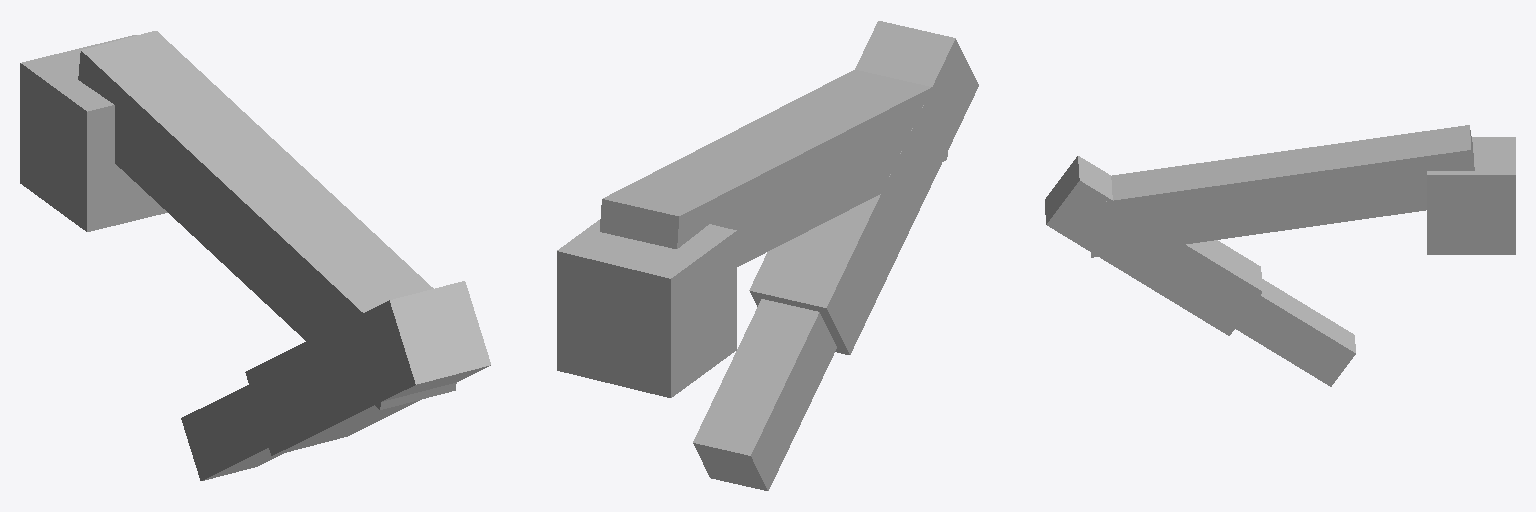
The robot description file, URDF, robot "uorover_ik_urdf":
<?xml version="1.0" encoding="utf-8"?>
<robot name="uorover_ik_urdf">

  <link name="base_footprint">
    <visual>
      <origin xyz="0 0 0" rpy="0 0 0" />
      <geometry>
        <box size="0.001 0.001 0.001" />
      </geometry>
    </visual>
  </link>

  <joint name="base_footprint_joint" type="fixed">
    <origin xyz="0 0 0.001" rpy="0 0 0" />
    <parent link="base_footprint"/>
    <child link="L2" />
  </joint>

  <link name="L2">
    <inertial>
      <origin xyz="0.0 0 0.0957" rpy="0 0 0" />
      <mass value="1.1861" />
      <inertia ixx="0.0014" ixy="0.0" ixz="0.0" iyy="0.0015" iyz="0.0" izz="0.0019" />
    </inertial>
    <visual>
      <origin xyz="0 0 0.06" rpy="0 0 0" />
      <geometry>
        <box size="0.12 0.12 0.12"/>
      </geometry>
      <material name="">
        <color rgba="0.753 0.753 0.753 1"/>
      </material>
    </visual>
    <collision>
      <origin xyz="0 0 0" rpy="0 0 0" />
      <geometry>
        <box size="0.12 0.04 0.04"/>
      </geometry>
    </collision>
  </link>

  <link name="L3">
    <inertial>
      <origin xyz="0.2517 0.00315 0.00045" rpy="0 0 0" />
      <mass value="1.055" />
      <inertia ixx="0.0006" ixy="0.0" ixz="0.0" iyy="0.0200" iyz="0.0" izz="0.0199" />
    </inertial>
    <visual>
      <origin xyz="0.26 0 0" rpy="0 0 0" />
      <geometry>
        <box size=".53 0.08 0.08"/>
      </geometry>
      <material name="">
        <color rgba="0.753 0.753 0.753 1"/>
      </material>
    </visual>
    <collision>
      <origin xyz="0.26 0 0" rpy="0 0 0" />
      <geometry>
        <box size="0.53 0.08 0.08"/>
      </geometry>
    </collision>
  </link>

  <joint name="q2" type="revolute">
    <origin xyz="0.00686 0 0.111" rpy="1.5708 3.0 1.6" />
    <parent link="L2" />
    <child link="L3" />
    <axis xyz="0 0 1" />
    <limit lower="0" upper="1.584" effort="0" velocity="0"/>
  </joint>

  <link name="L4">
    <inertial>
      <origin xyz="0.0725 0 0.00966" rpy="0 0 0" />
      <mass value="1.699" />
      <inertia ixx="0.0011" ixy="0.0" ixz="0.0" iyy="0.0081" iyz="0.0" izz="0.0075" />
    </inertial>
    <visual>
      <origin xyz="0.08 0 0" rpy="0 0 0" />
      <geometry>
        <box size="0.3 0.08 0.08"/>
      </geometry>
      <material name="">
        <color rgba="0.753 0.753 0.753 1"/>
      </material>
    </visual>
    <collision>
      <origin xyz="0.08 0 0" rpy="0 0 0" />
      <geometry>
        <box size="0.3 0.08 0.08"/>
      </geometry>
    </collision>
  </link>

  <joint name="q3" type="revolute">
    <origin xyz="0.5 0 -0.0000984" rpy="0 0 2.4" />
    <parent link="L3" />
    <child link="L4" />
    <axis xyz="0 0 -1" />
    <limit lower="0" upper="1.767" effort="0" velocity="0"/>
  </joint>

  <link name="L5">
    <inertial>
      <origin xyz="0.0778 0.0091 0.0000192" rpy="0 0 0" />
      <mass value="0.765" />
      <inertia ixx="0.0005" ixy="0.0" ixz="0.0" iyy="0.0004" iyz="0.0" izz="0.0005" />
    </inertial>
    <visual>
      <origin xyz="0.06 0 0" rpy="0 0 0" />
      <geometry>
        <box size="0.16 0.06 0.06"/>
      </geometry>
      <material name="">
        <color rgba="0.753 0.753 0.753 1"/>
      </material>
    </visual>
    <collision>
      <origin xyz="0.sk=[False, True, Tru06 0 0" rpy="0 0 0" />
      <geometry>
        <box size="0.16 0.06 0.06"/>
      </geometry>
    </collision>
  </link>

  <joint name="q4" type="revolute">
    <origin xyz="0.25 0 0.00014" rpy="0 0 0" />
    <parent link="L4" />
    <child link="L5" />
    <axis xyz="0 0 -1" />
    <limit lower="-1.578" upper="1.578" effort="0" velocity="0"/>
  </joint>


</robot>

--- What the picture shows (computed from the rendered views, not written in the file) ---
Views: 3 orthographic renders of the robot side by side, from view 1: azimuth 30°, elevation 25°; view 2: azimuth 150°, elevation 25°; view 3: azimuth 270°, elevation 25°.
Robot: uorover_ik_urdf — 5 links, 4 joints (3 revolute, 1 fixed); root link base_footprint; default pose: all joints at 0.
Visible links, largest first — view 1: L3, L4, L2, L5; view 2: L3, L2, L4, L5; view 3: L3, L4, L2, L5.
Link boxes in pixels (box(x1,y1,x2,y2)): L3: box(78, 31, 456, 409); L4: box(245, 281, 490, 455); L2: box(20, 35, 167, 231); L5: box(181, 385, 283, 480); L3: box(600, 70, 947, 266); L2: box(557, 220, 736, 397); L4: box(749, 21, 978, 354); L5: box(693, 299, 836, 490); L3: box(1083, 125, 1474, 257); L4: box(1045, 156, 1262, 335); L2: box(1427, 137, 1515, 254); L5: box(1235, 279, 1355, 386).
Size in the robot's own frame: 0.1235 by 0.6363 by 0.3558 metres.
Geometry: primitives only (box / cylinder / sphere), no mesh files.
